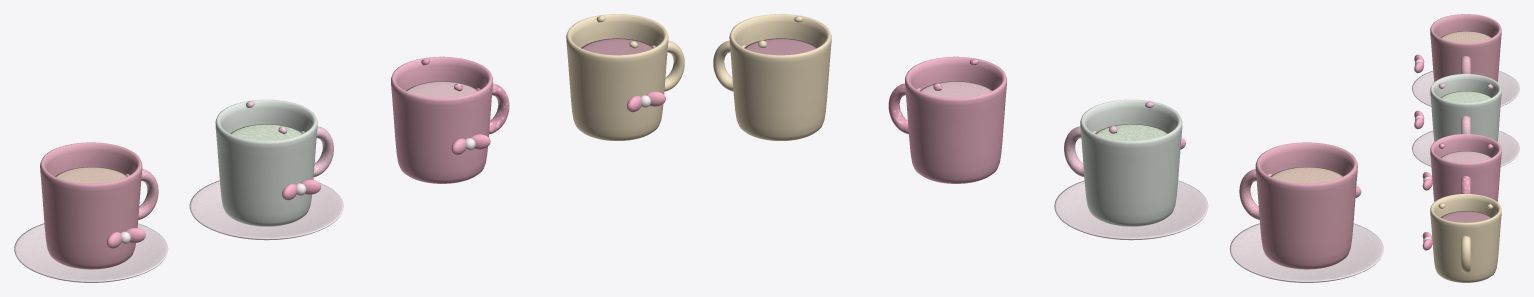
File: cat_cafe_mugs.glb
The picture shows the model from 3 angles, left to right: view 1: azimuth 30°, elevation 25°; view 2: azimuth 150°, elevation 25°; view 3: azimuth 270°, elevation 25°; orthographic projection. The views are drawn at different scales.
Parts seen in each view (by area): view 1: mug_matcha, mug_classic, mug_minuit, mug_sakura; view 2: mug_matcha, mug_classic, mug_minuit, mug_sakura; view 3: mug_minuit, mug_classic, mug_matcha, mug_sakura, bow_mug_minuit_R, bow_mug_sakura_R, bow_mug_matcha_R, bow_mug_classic_R.
Part boxes in pixels (x1=…): mug_matcha: x1=189, y1=99, x2=343, y2=240; mug_classic: x1=14, y1=142, x2=168, y2=282; mug_minuit: x1=566, y1=14, x2=684, y2=140; mug_sakura: x1=391, y1=56, x2=509, y2=183; mug_matcha: x1=1054, y1=99, x2=1208, y2=240; mug_classic: x1=1229, y1=142, x2=1383, y2=282; mug_minuit: x1=713, y1=14, x2=831, y2=140; mug_sakura: x1=888, y1=56, x2=1006, y2=183; mug_minuit: x1=1430, y1=194, x2=1501, y2=282; mug_classic: x1=1412, y1=14, x2=1519, y2=106; mug_matcha: x1=1412, y1=74, x2=1519, y2=166; mug_sakura: x1=1430, y1=134, x2=1501, y2=201; bow_mug_minuit_R: x1=1422, y1=238, x2=1432, y2=250; bow_mug_sakura_R: x1=1422, y1=178, x2=1432, y2=190; bow_mug_matcha_R: x1=1414, y1=117, x2=1424, y2=129; bow_mug_classic_R: x1=1414, y1=61, x2=1424, y2=73.
Bounding box in the file's own units: 6.01 × 0.8876 × 1.22.
Materials: 11 (9 with a texture image).
